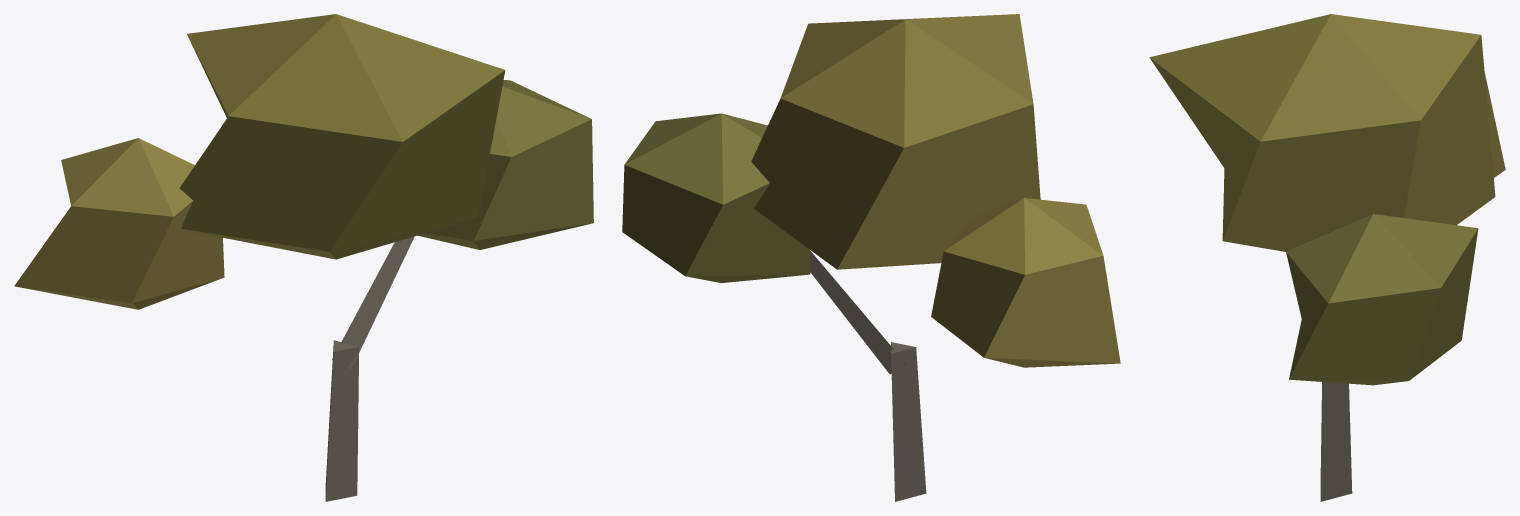
File: hackberry-far.glb
3 views of the same model, side by side, from view 1: azimuth 30°, elevation 25°; view 2: azimuth 150°, elevation 25°; view 3: azimuth 270°, elevation 25° (orthographic).
Parts seen in each view (by area): view 1: hackberry-far / foliage-core, hackberry-far / wood; view 2: hackberry-far / foliage-core, hackberry-far / wood; view 3: hackberry-far / foliage-core, hackberry-far / wood.
Part boxes in pixels (x1,y1,x2,y2): hackberry-far / foliage-core: [14, 14, 593, 309]; hackberry-far / wood: [325, 236, 414, 501]; hackberry-far / foliage-core: [622, 14, 1120, 367]; hackberry-far / wood: [809, 250, 926, 501]; hackberry-far / foliage-core: [1149, 14, 1505, 385]; hackberry-far / wood: [1320, 382, 1352, 501].
Bounding box in the file's own units: 8.58 × 7.53 × 5.07.
